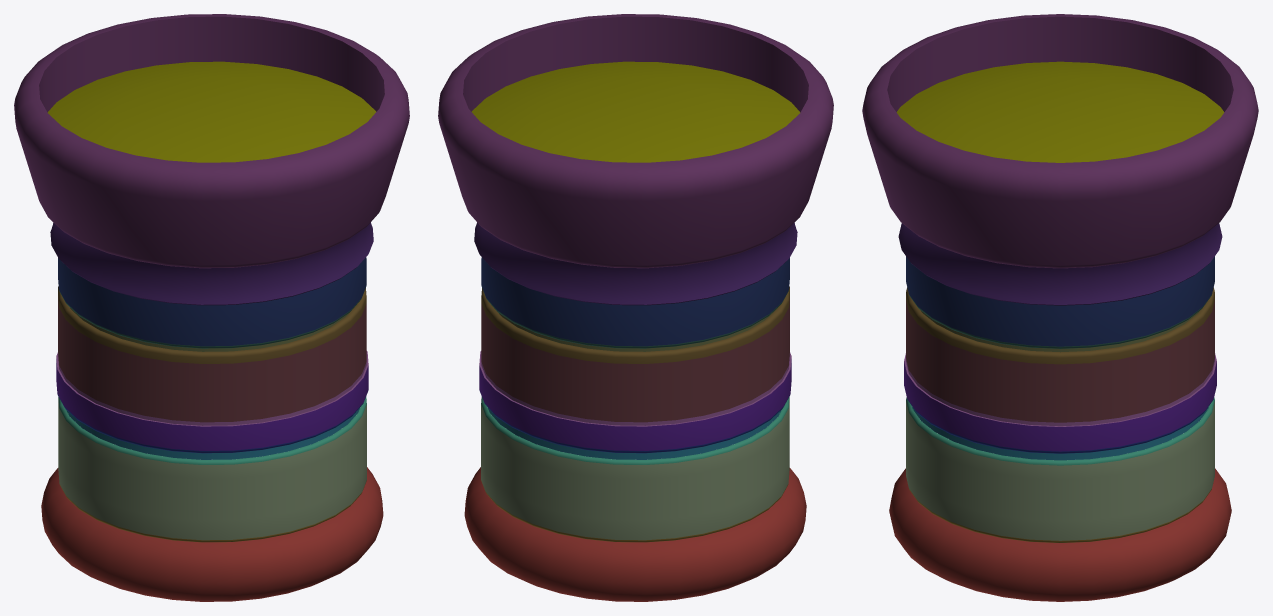
File: PottedPlant_Style_04.fbx
The picture shows the model from 3 angles, left to right: view 1: azimuth 30°, elevation 25°; view 2: azimuth 150°, elevation 25°; view 3: azimuth 270°, elevation 25°; orthographic projection.
Visible parts, largest first — view 1: SetA_PottedPlant_Style_04; view 2: SetA_PottedPlant_Style_04; view 3: SetA_PottedPlant_Style_04.
Part boxes in pixels (bbox=[...]): SetA_PottedPlant_Style_04: bbox=[14, 14, 409, 601]; SetA_PottedPlant_Style_04: bbox=[438, 14, 833, 601]; SetA_PottedPlant_Style_04: bbox=[862, 14, 1258, 601].
Bounding box in the file's own units: 0.2916 × 0.3657 × 0.2916.
